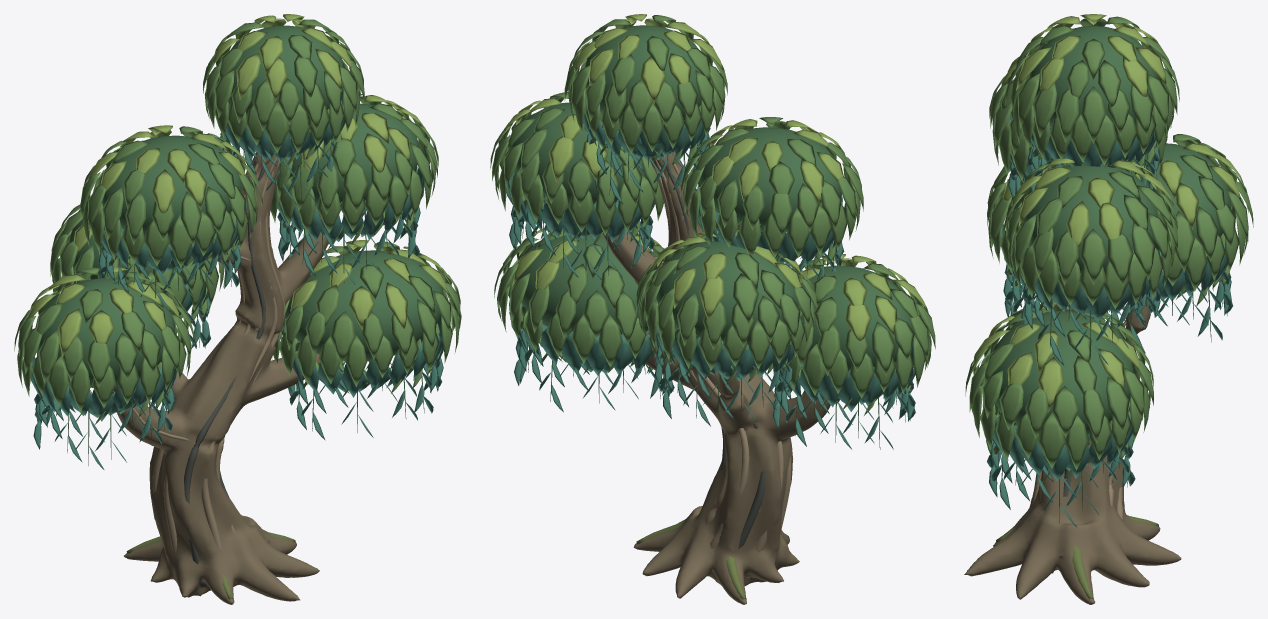
The model's file is SM_SP_OldWillow.fbx.
3 views of the same model, side by side, from view 1: azimuth 30°, elevation 25°; view 2: azimuth 150°, elevation 25°; view 3: azimuth 270°, elevation 25° (orthographic). The views are drawn at different scales.
Visible parts, largest first — view 1: SM_SP_OldWillow; view 2: SM_SP_OldWillow; view 3: SM_SP_OldWillow.
Boxes of the visible parts, x1=… form: SM_SP_OldWillow: x1=14, y1=14, x2=461, y2=604; SM_SP_OldWillow: x1=490, y1=14, x2=935, y2=604; SM_SP_OldWillow: x1=964, y1=14, x2=1253, y2=604.
Bounding box in the file's own units: 6.74 × 3.65 × 8.1.
